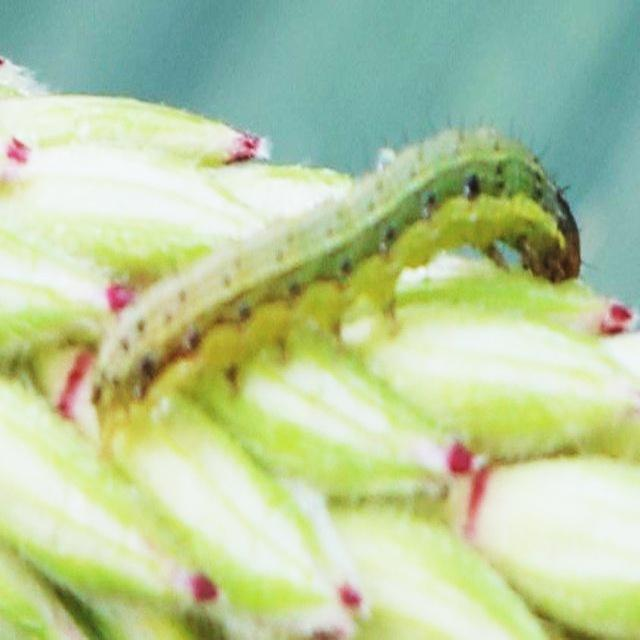gusano_cogollero: (82, 125, 588, 448)
